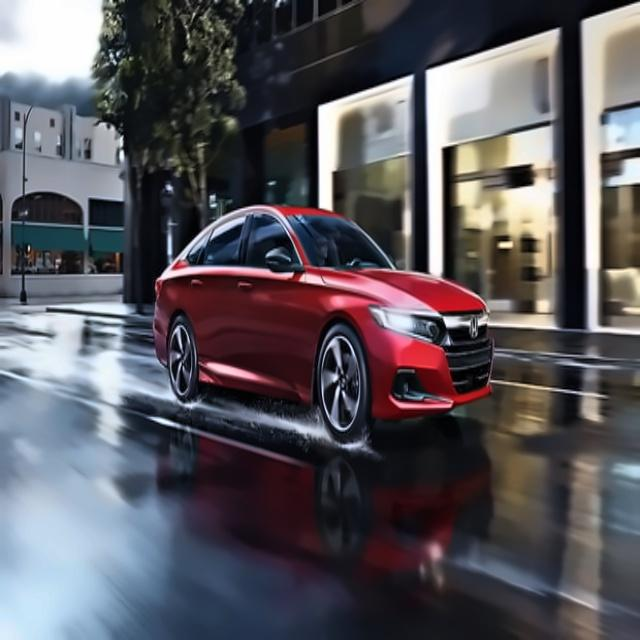Car hood: (316, 264, 487, 314)
Driver-s door - -F-R-: (236, 205, 305, 395)
Fender - -F-R-: (306, 262, 383, 399)
Fender - -R-R-: (160, 279, 190, 345)
Front bumper: (359, 329, 499, 425)
Headlight - -R-: (363, 300, 450, 351)
Passenger-s door - -R-R-: (180, 207, 241, 389)
Rear bumper: (149, 312, 174, 375)
Rear light - -R-: (149, 271, 164, 302)
Side bumper - -R-: (193, 358, 317, 411)
Side mirror - -R-: (254, 240, 308, 281)
